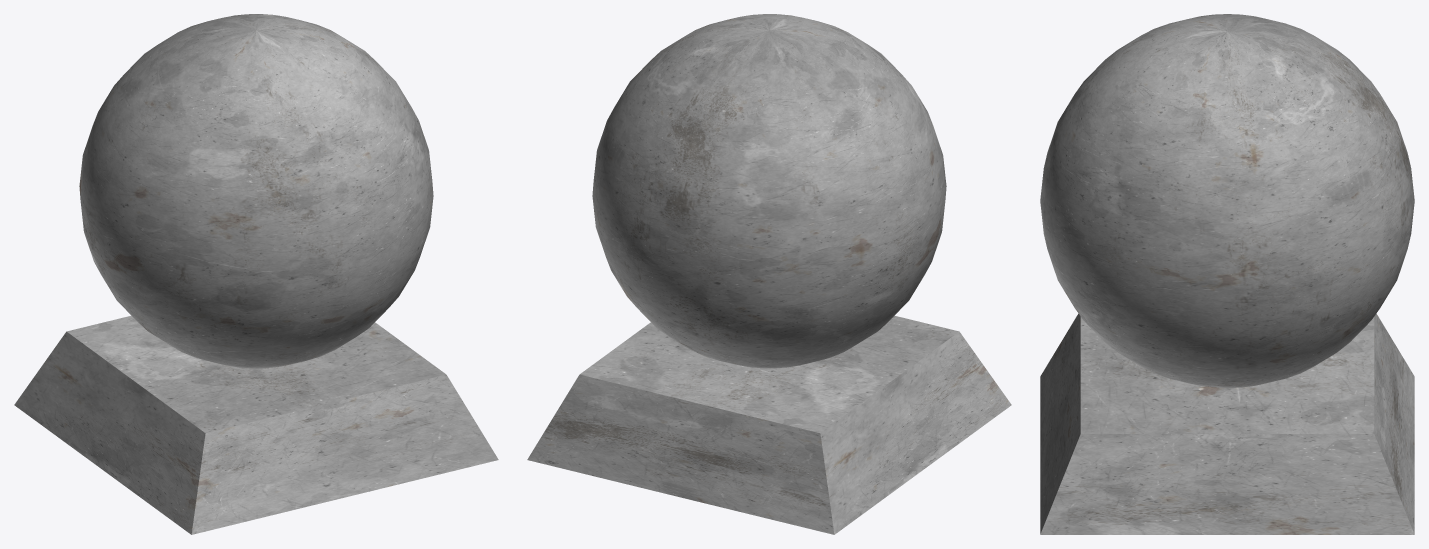
Rendered from metal_1.glb.
3 renders of one model, left to right at view 1: azimuth 30°, elevation 25°; view 2: azimuth 150°, elevation 25°; view 3: azimuth 270°, elevation 25°, orthographic. The views are drawn at different scales.
Visible parts, largest first — view 1: Cube; view 2: Cube; view 3: Cube.
Part boxes in pixels (x1,y1,x2,y2): Cube: [14, 14, 498, 534]; Cube: [527, 14, 1011, 534]; Cube: [1040, 14, 1414, 534].
Size of the model in its own units: 2 by 2.5 by 2.
Materials: 1 (1 with a texture image).
